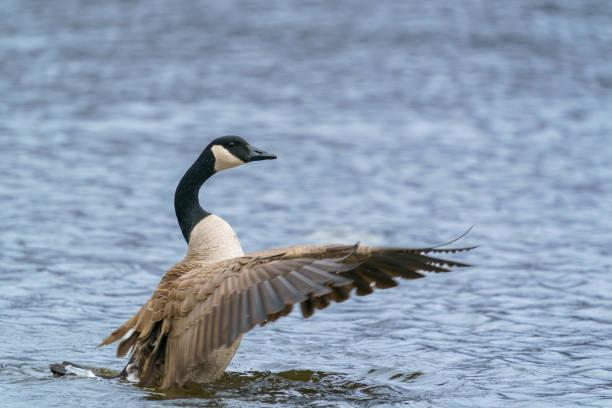Canadian-Goose: (113, 130, 464, 385)
